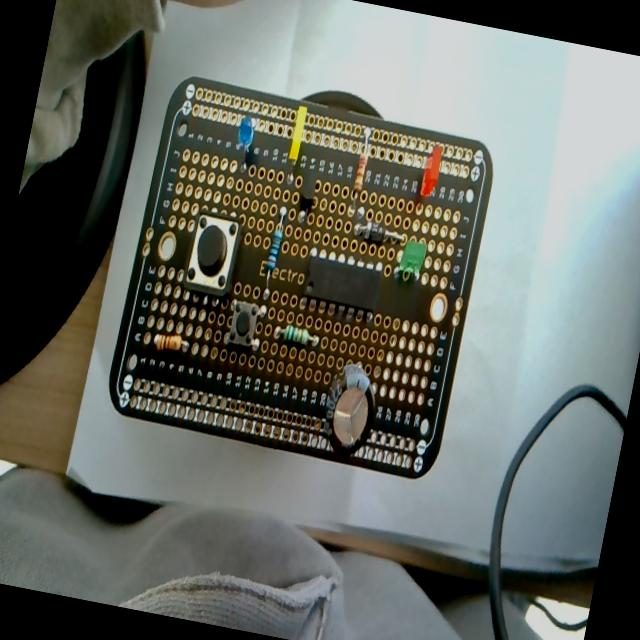Electrolytic capacitor: (316, 358, 386, 464)
IC: (297, 244, 384, 319)
diode: (353, 220, 406, 250)
led: (282, 106, 310, 186), (230, 116, 258, 172), (395, 237, 428, 284), (418, 142, 444, 200)
resistor: (262, 206, 288, 290), (348, 127, 373, 209), (274, 322, 322, 350), (152, 332, 186, 356)
switch: (182, 212, 244, 298), (225, 298, 262, 351)
transistor: (290, 164, 326, 234)
